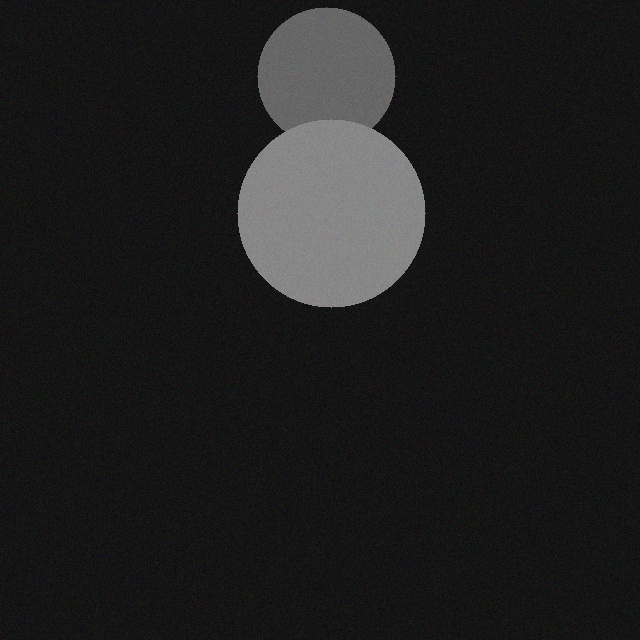circle: (234, 123, 422, 311), (254, 11, 392, 149)
